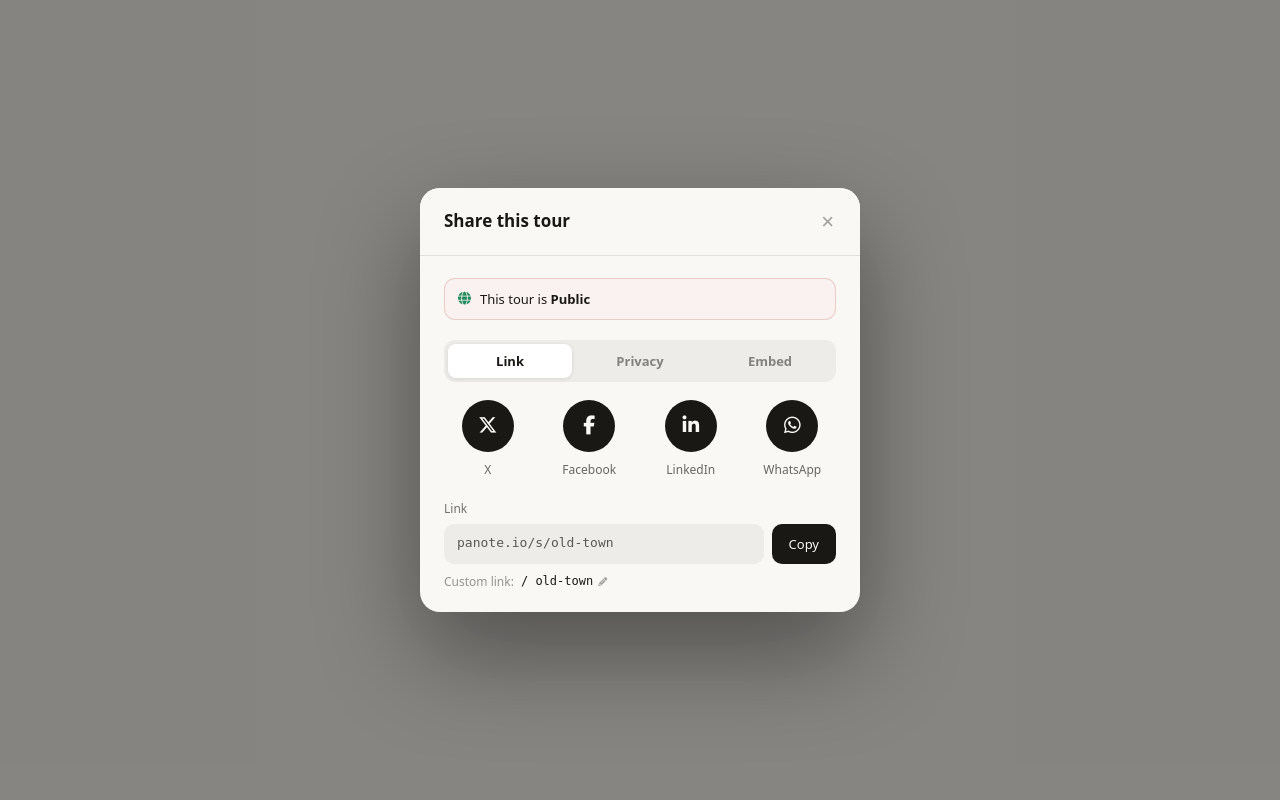
share route › shows a 409 too many renames rename refusal inline
Click the button with aria-label "Edit custom link".
click(564, 581)  # box [521,574,607,588]
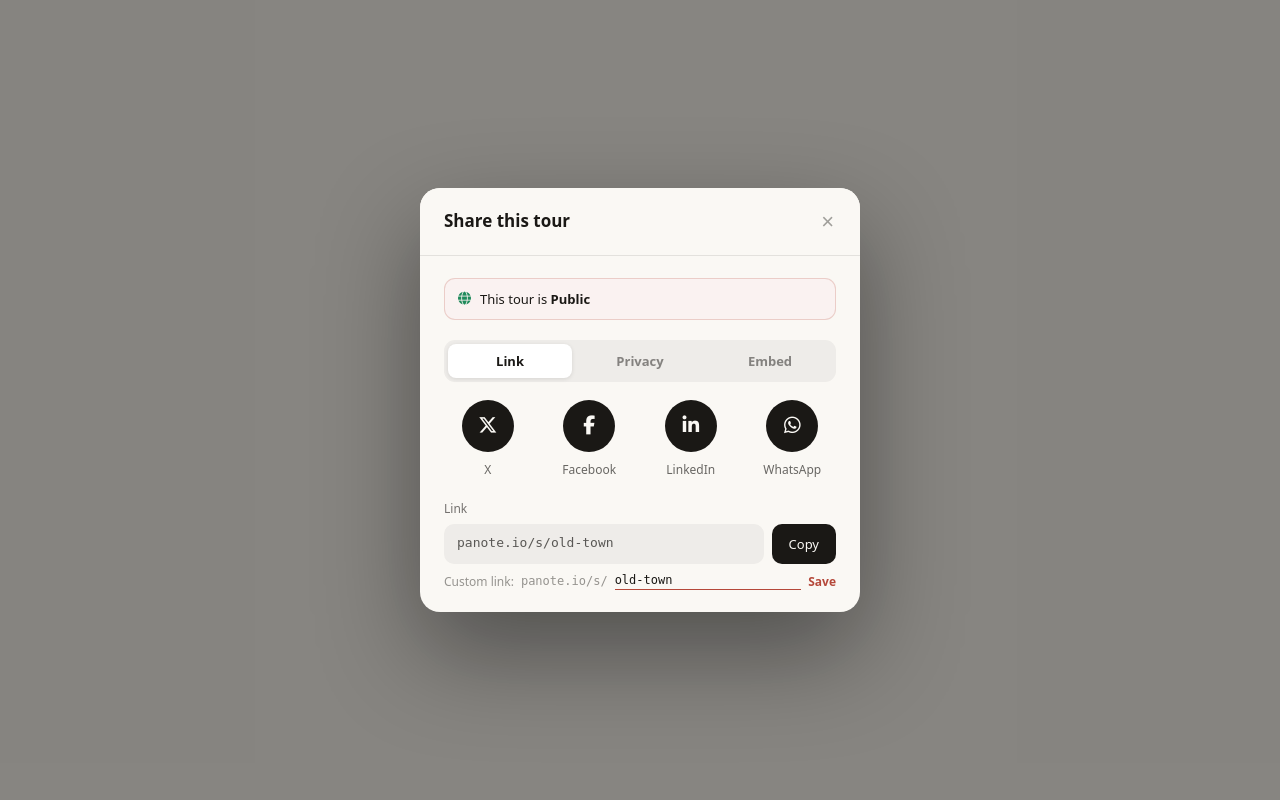
Replace the text in the field named "Custom link" with "another-link" at coordinates (708, 581), box [615,572,801,590]
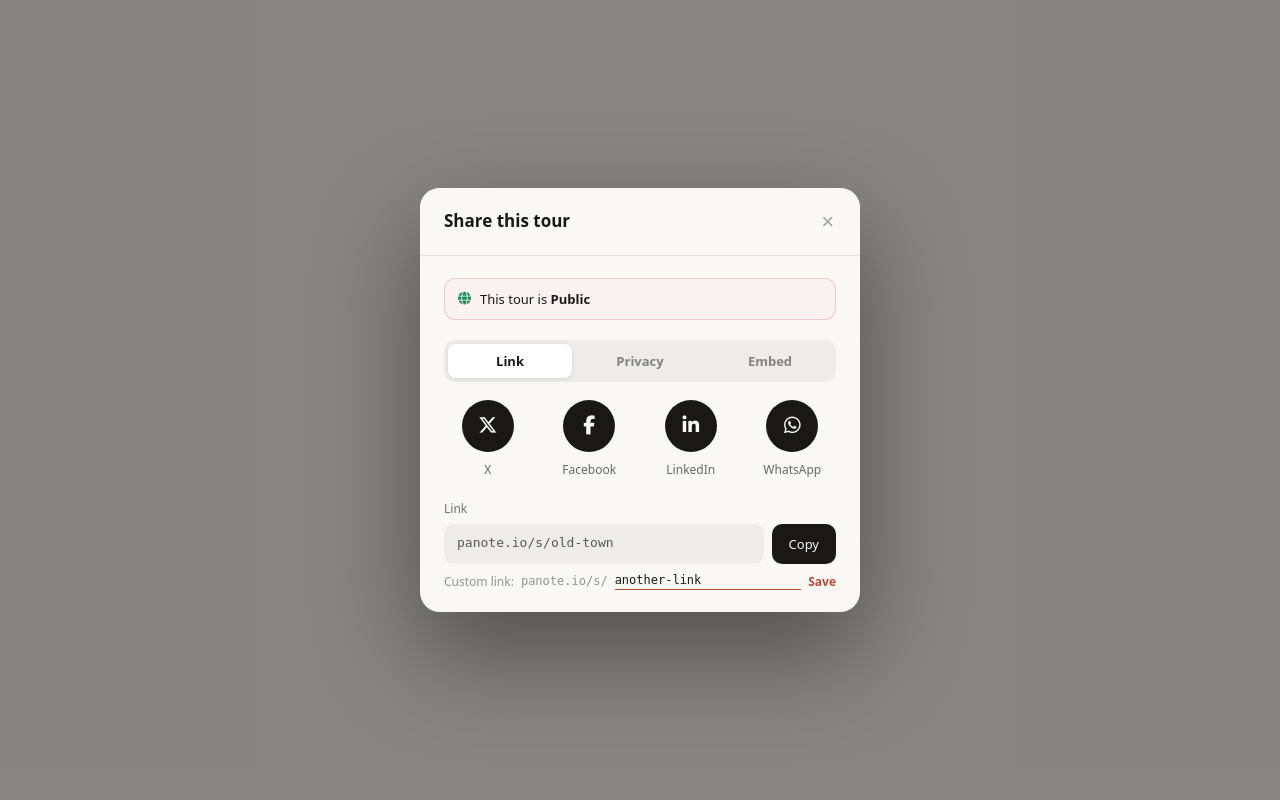
Press Enter in the field named "Custom link", box [615,572,801,590]
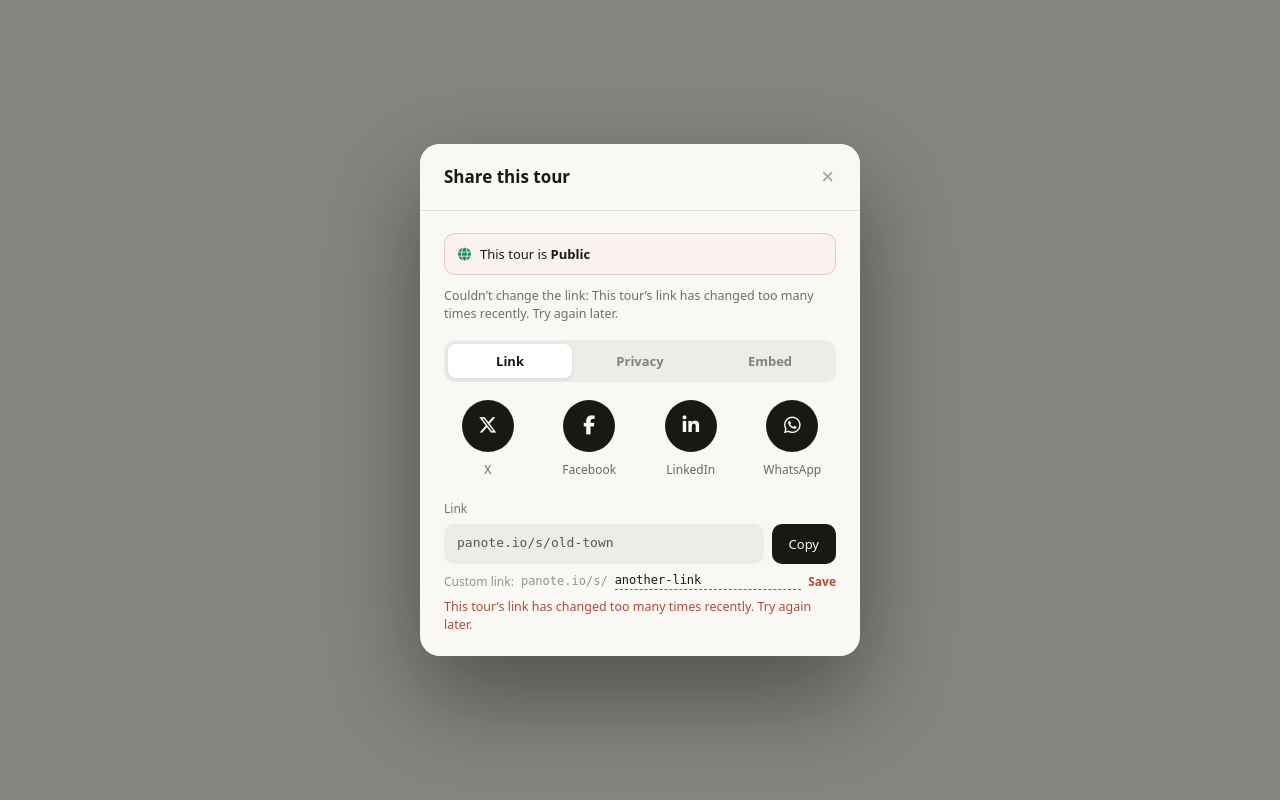
expect the message reads "This tour’s link has changed too many times recently. Try again later.": met, box [444,598,811,633]
